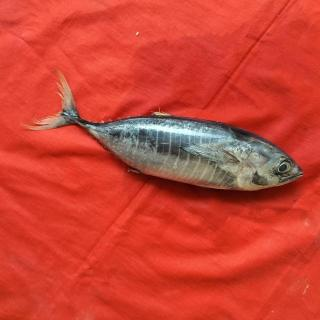Ikan: (30, 67, 307, 219)
